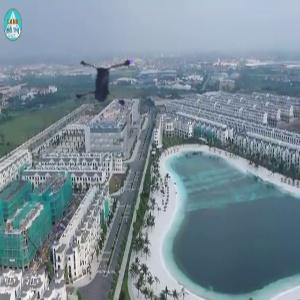drone: (65, 42, 158, 135)
